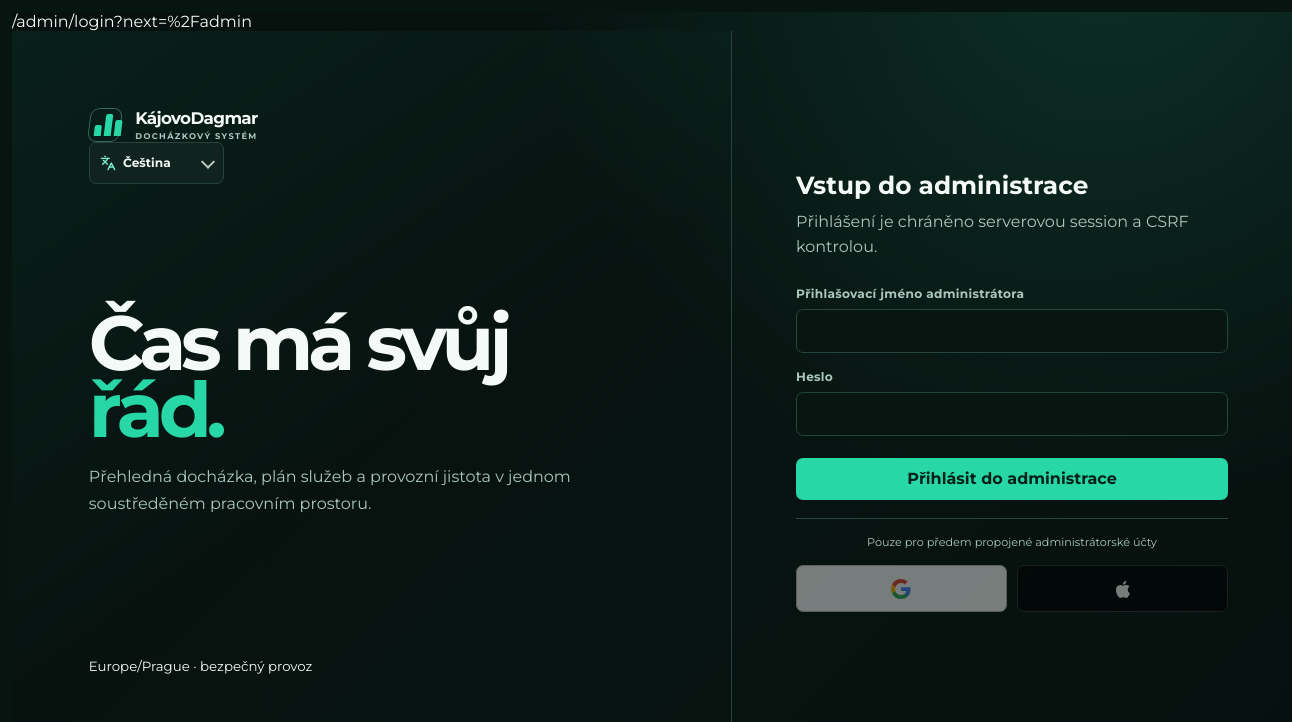
Test case: admin authentication flow › refetches admin session after login from /admin and lands on /admin/prehled
Expected: the heading "Vstup do administrace" is shown, [796,170,1088,200]
Expected: the text named "Aktuální cesta" reads "/admin/login?next=%2Fadmin", [12,12,252,31]
Type "provoz@hotelchodovasc.cz" into the field labelled "Přihlašovací jméno administrátora" at (1012, 331), box [796,309,1228,353]
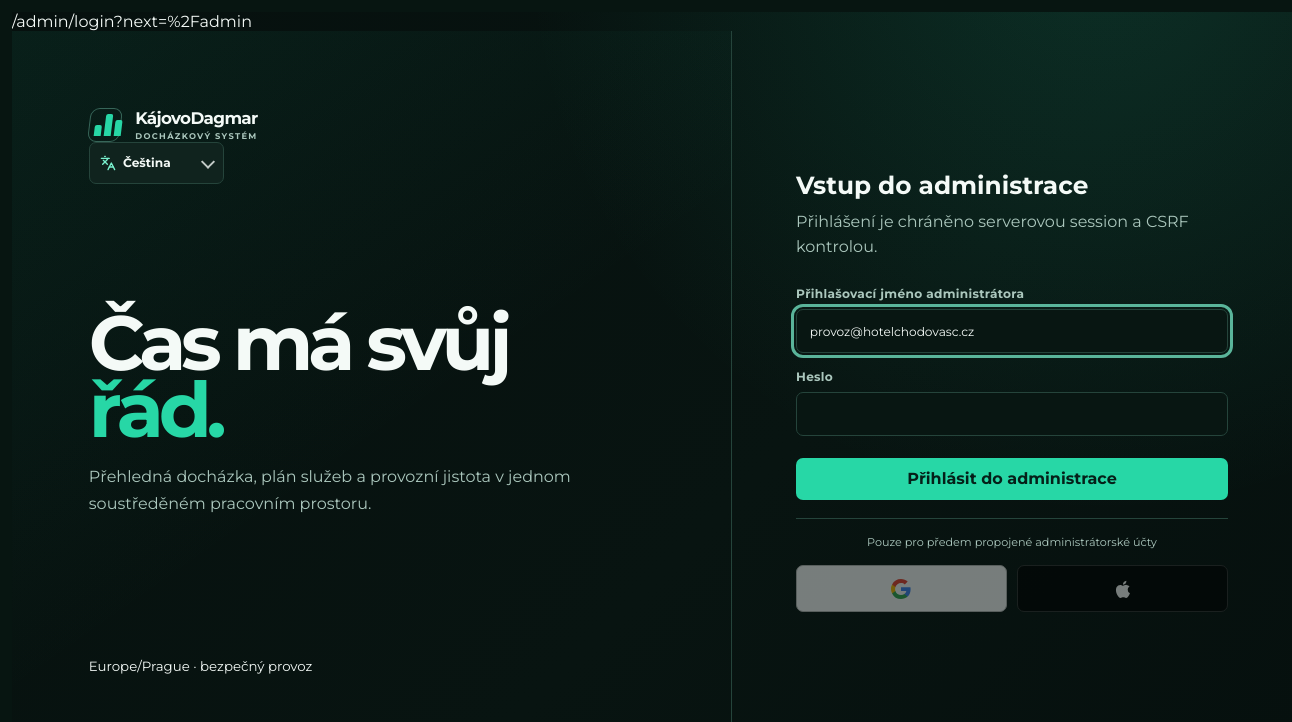
Type "StrongPass123" into the password field labelled "Heslo" at (1012, 414), box [796,392,1228,436]
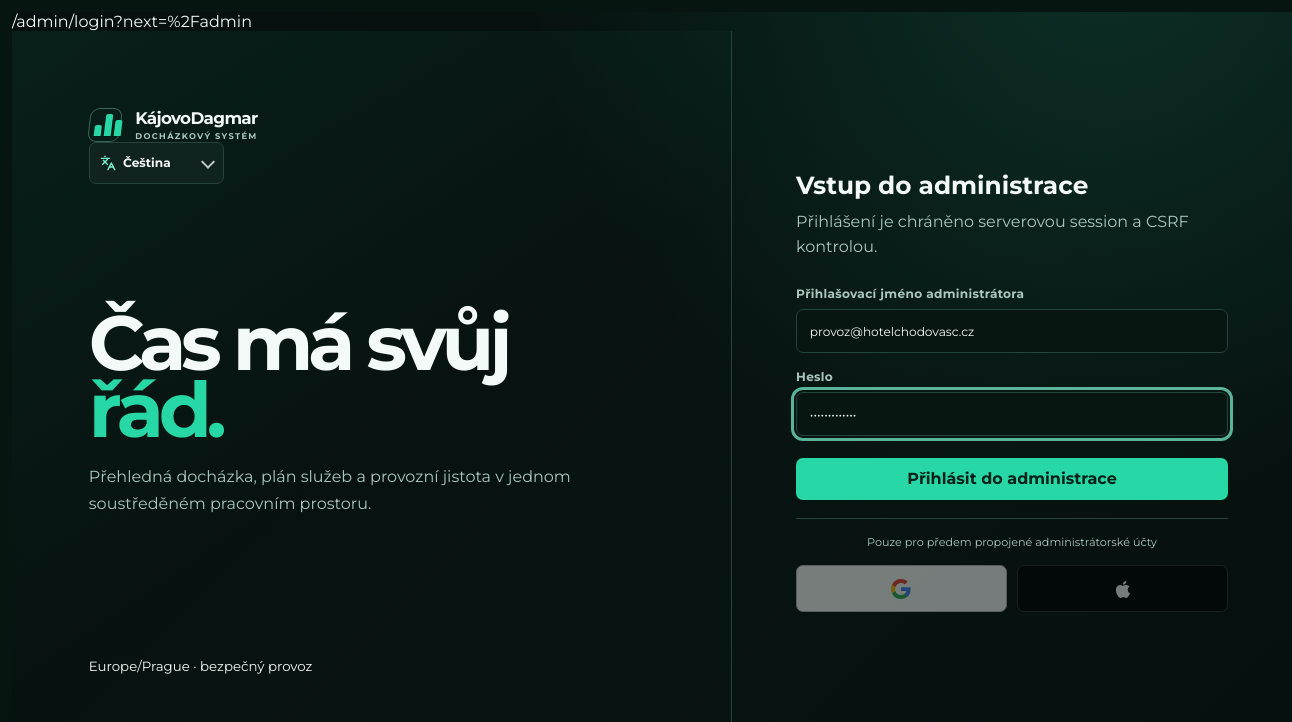
Click the button "Přihlásit do administrace" at (1012, 479), box [796,458,1228,500]
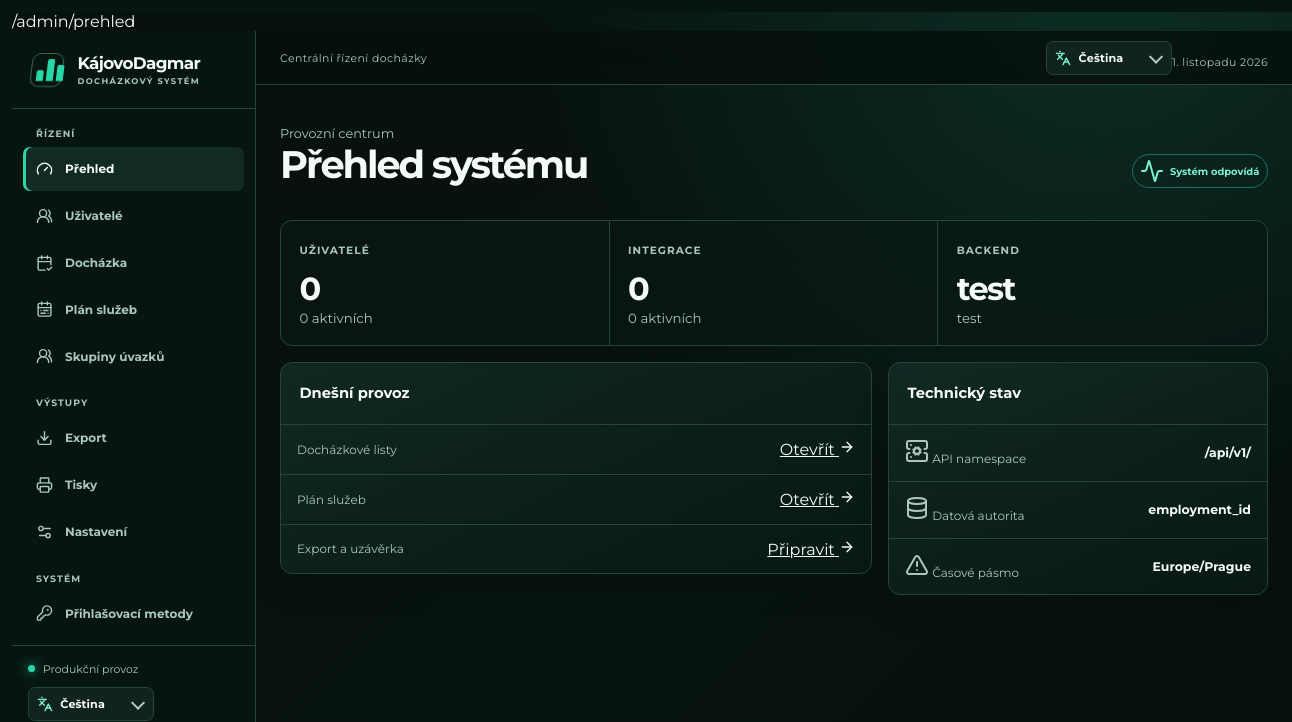
Result: the heading "Přehled systému" is shown at [280,141,587,188]
Result: the text named "Aktuální cesta" reads "/admin/prehled" at [12,12,135,31]
Result: the heading "Vstup do administrace" is gone
